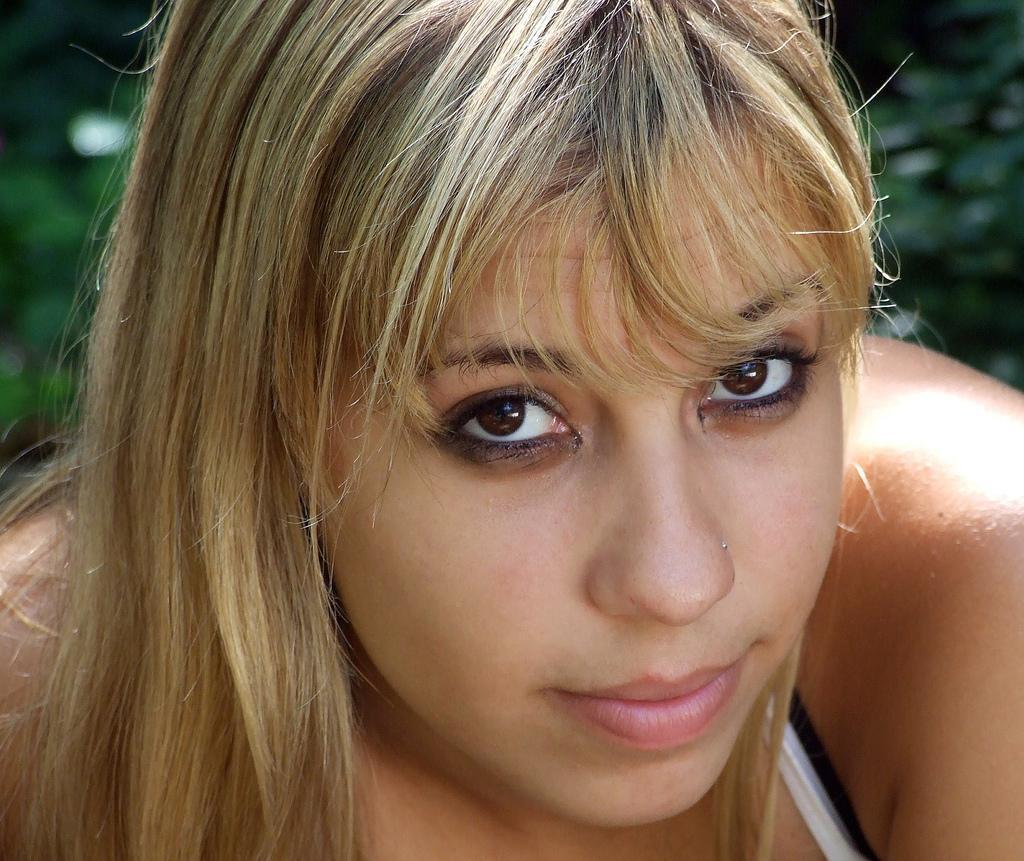Eyebags: (706, 371, 815, 450), (437, 440, 581, 495)
